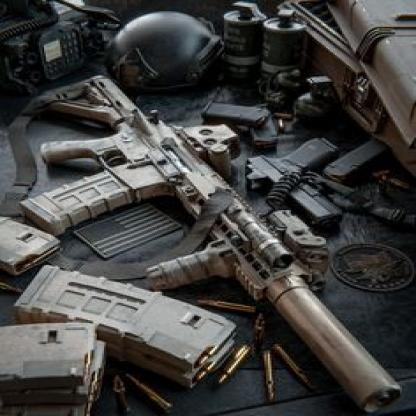Grenade: (218, 1, 264, 81), (264, 7, 306, 81), (294, 77, 339, 124)
Gun: (19, 74, 403, 414)
Pistol: (246, 134, 343, 230)
